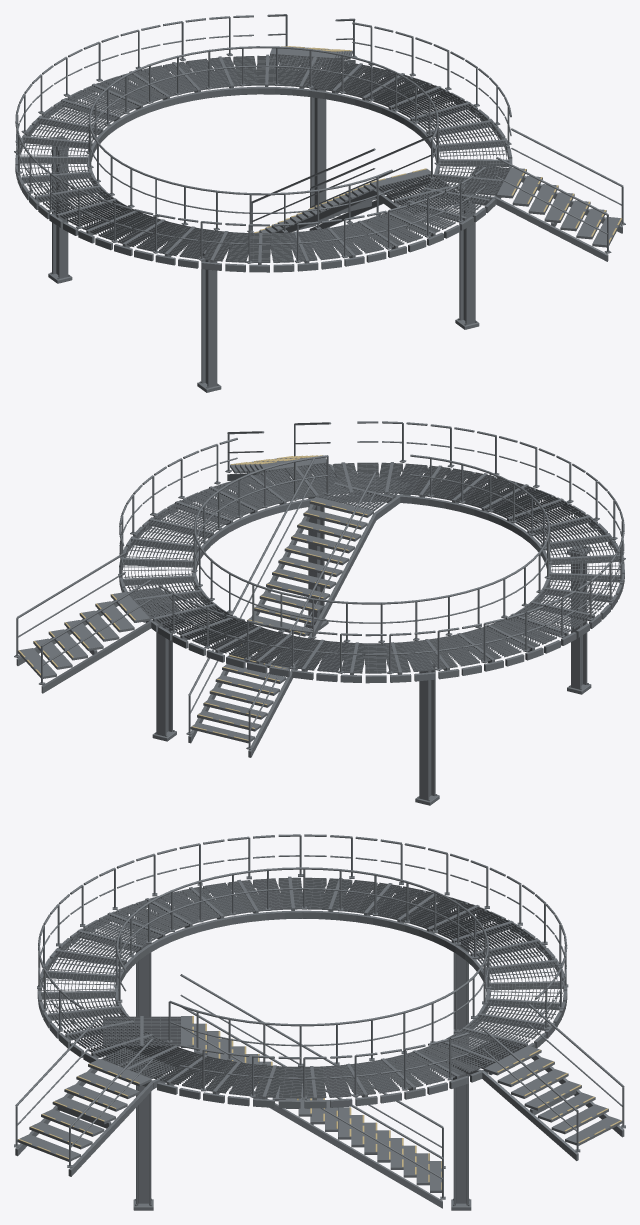
The model's file is BN_E02_ServiceDeck.fbx.
3 views of the same model, one above another, from view 1: azimuth 30°, elevation 25°; view 2: azimuth 150°, elevation 25°; view 3: azimuth 270°, elevation 25° (orthographic). The views are drawn at different scales.
Parts seen in each view (by area): view 1: BN_E02_ServiceDeck; view 2: BN_E02_ServiceDeck; view 3: BN_E02_ServiceDeck.
Boxes of the visible parts, x1,y1,x2,y2 form: BN_E02_ServiceDeck: (14, 14, 625, 392); BN_E02_ServiceDeck: (14, 421, 625, 805); BN_E02_ServiceDeck: (14, 834, 625, 1210).
Bounding box in the file's own units: 1230 × 480 × 1308.
